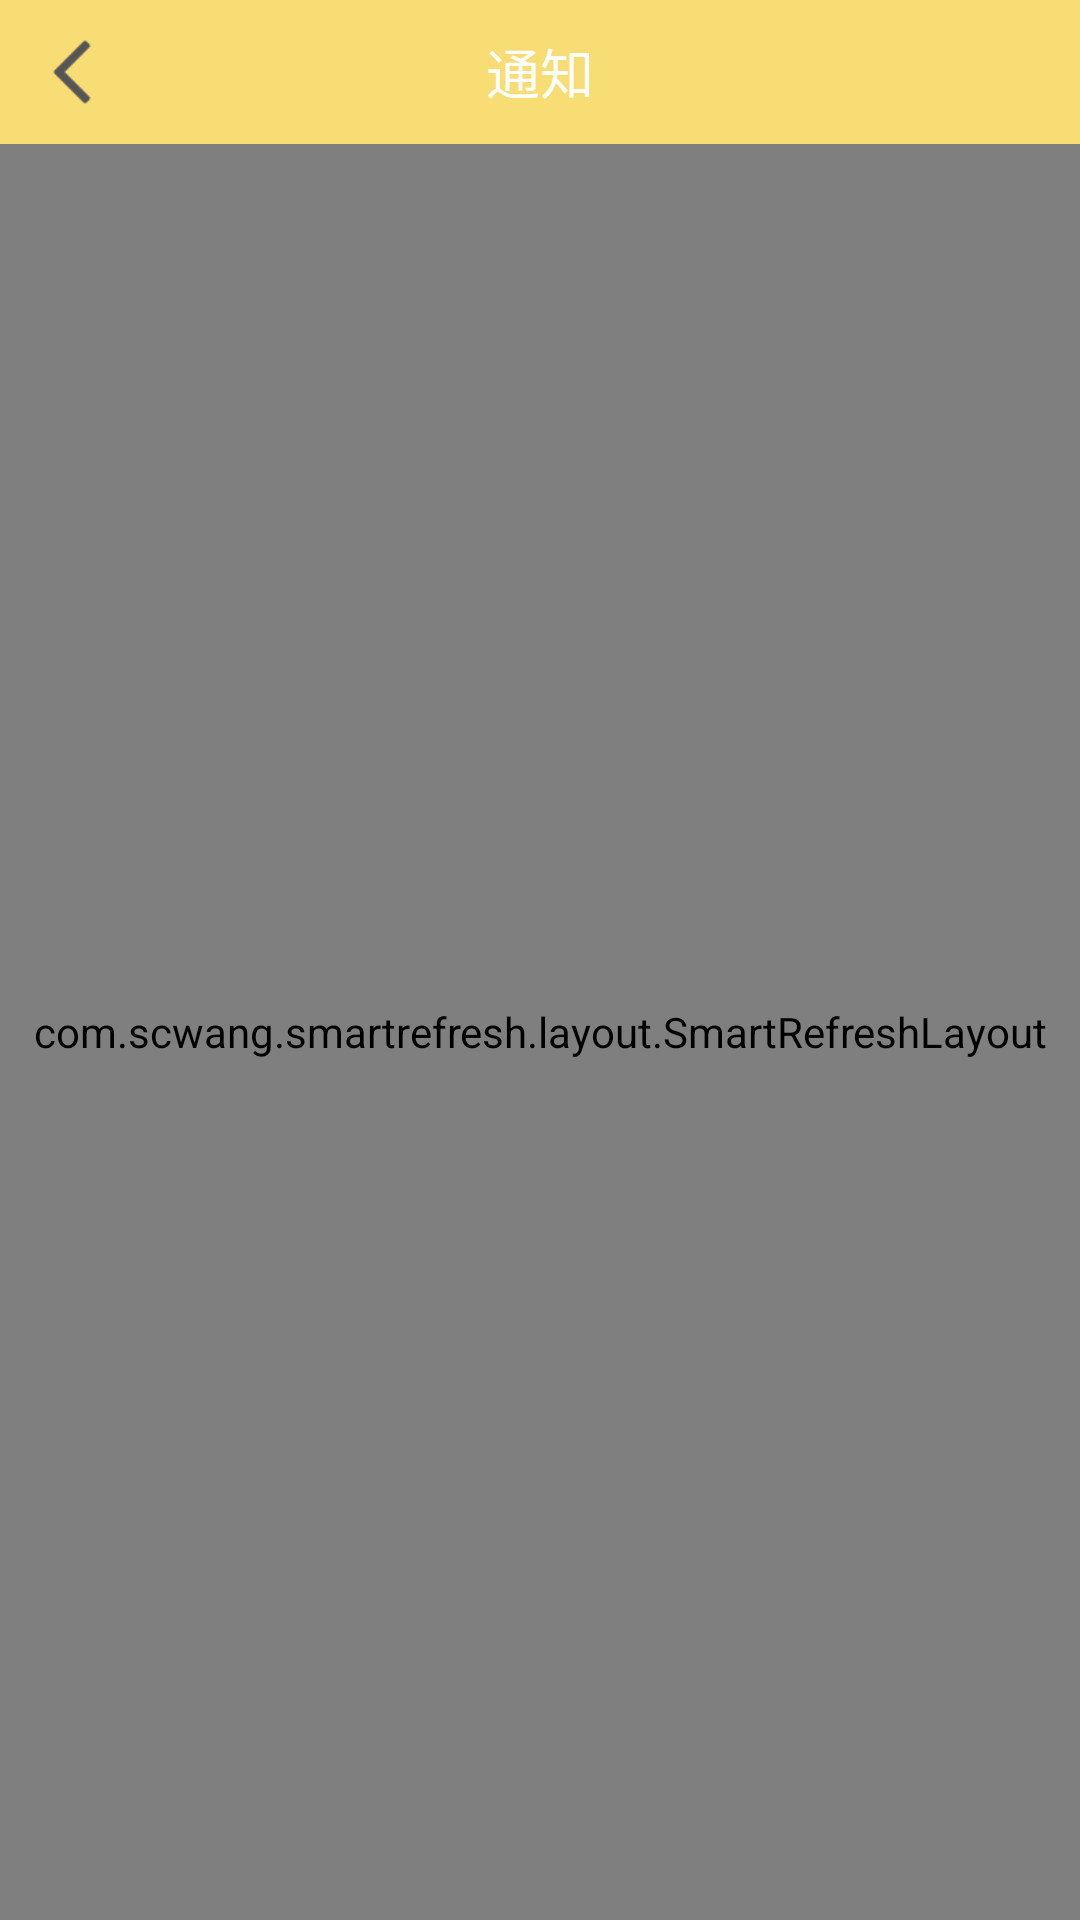

Named icons in this screenshot (1080w x 1920h) and their bounding boxes, [x1=x1, y1=y1, x2=x2, y2=y2]:
left back: [x1=53, y1=40, x2=91, y2=104]
